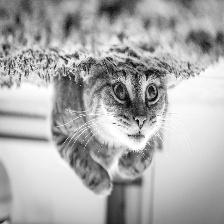kedo: (51, 63, 168, 197)
